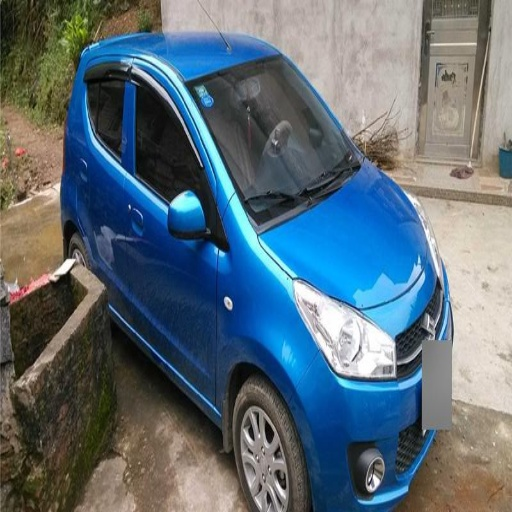front_bumper: (293, 321, 448, 511)
front_right_door: (119, 59, 216, 400)
front_right_light: (294, 280, 399, 380)
